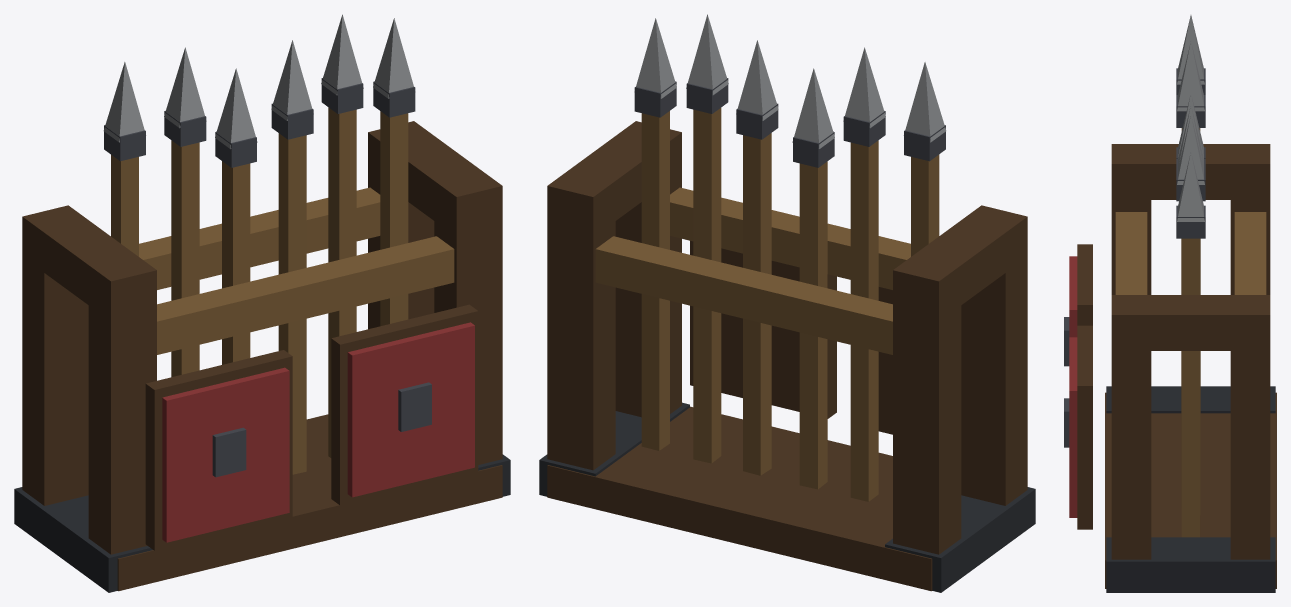
The model's file is weapon_rack.glb.
3 renders of one model, left to right at view 1: azimuth 30°, elevation 25°; view 2: azimuth 150°, elevation 25°; view 3: azimuth 270°, elevation 25°, orthographic. The views are drawn at different scales.
Parts seen in each view (by area): view 1: timber, timber_light, cloth, steel, iron, iron_dark; view 2: timber, timber_light, steel, iron_dark, iron; view 3: timber, timber_light, iron_dark, steel, cloth, iron.
Part boxes in pixels (left/top/right/bottom): timber: left=22, top=121, right=502, bottom=591; timber_light: left=111, top=107, right=454, bottom=474; cloth: left=162, top=322, right=474, bottom=542; steel: left=103, top=14, right=413, bottom=148; iron: left=104, top=78, right=431, bottom=477; iron_dark: left=14, top=454, right=510, bottom=592; timber: left=547, top=121, right=1027, bottom=591; timber_light: left=595, top=108, right=939, bottom=501; steel: left=636, top=14, right=946, bottom=148; iron_dark: left=539, top=402, right=1035, bottom=592; iron: left=634, top=78, right=945, bottom=167; timber: left=1077, top=144, right=1276, bottom=588; timber_light: left=1115, top=128, right=1266, bottom=537; iron_dark: left=1106, top=386, right=1275, bottom=592; steel: left=1177, top=15, right=1204, bottom=221; cloth: left=1069, top=256, right=1077, bottom=517; iron: left=1064, top=68, right=1205, bottom=447.
Size of the model in its own units: 31.4 by 35.96 by 16.1.
